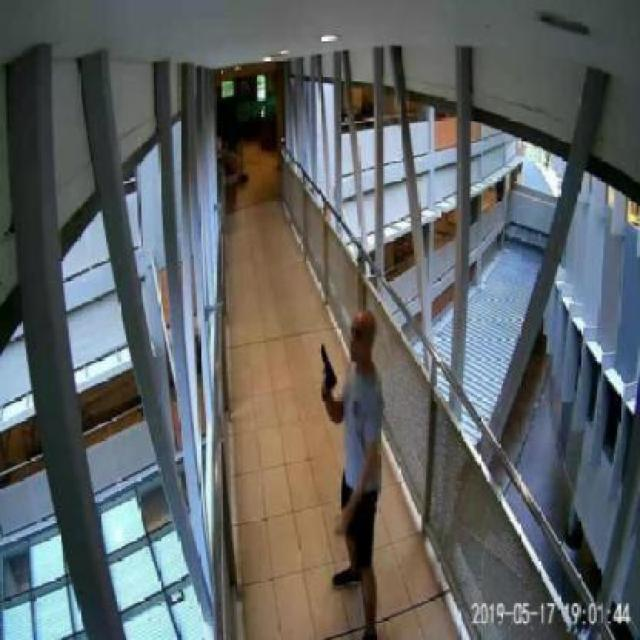gun: (318, 340, 336, 398)
